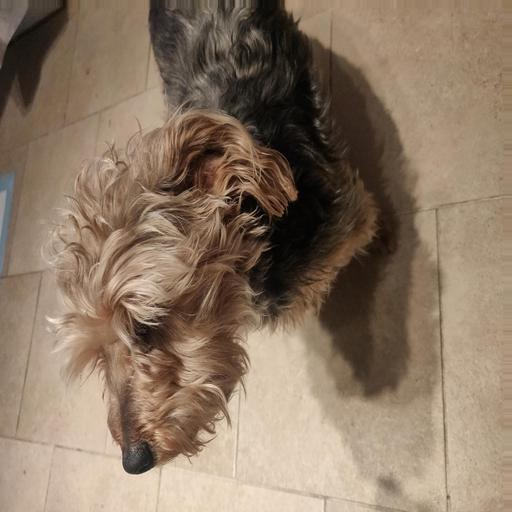dog: (60, 117, 419, 476)
